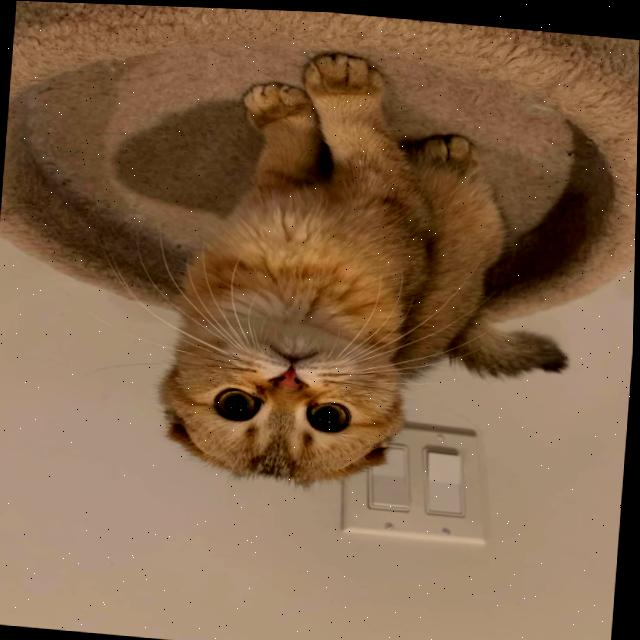Scottish Fold: (147, 36, 593, 511)
